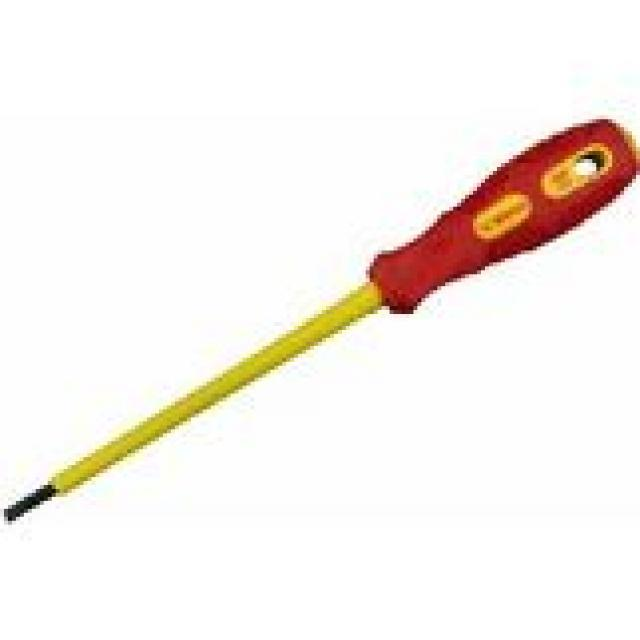screwdriver: (0, 108, 640, 532)
